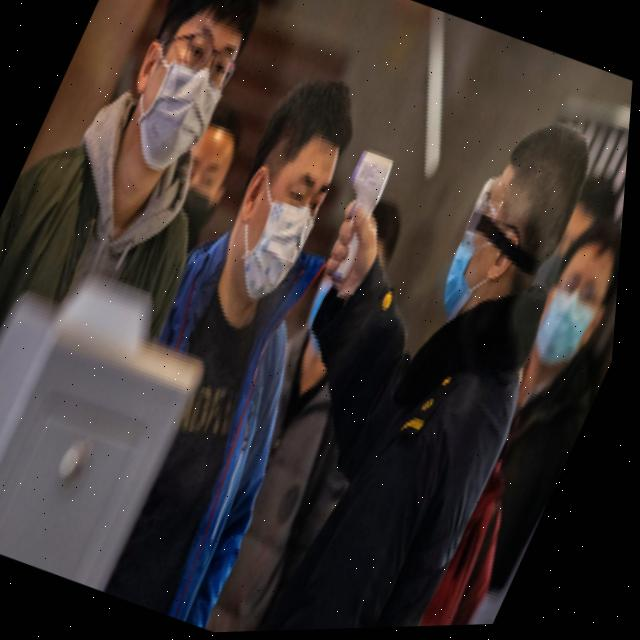Mask: (207, 154, 343, 312), (102, 32, 240, 183), (432, 203, 548, 337), (525, 275, 621, 380)
